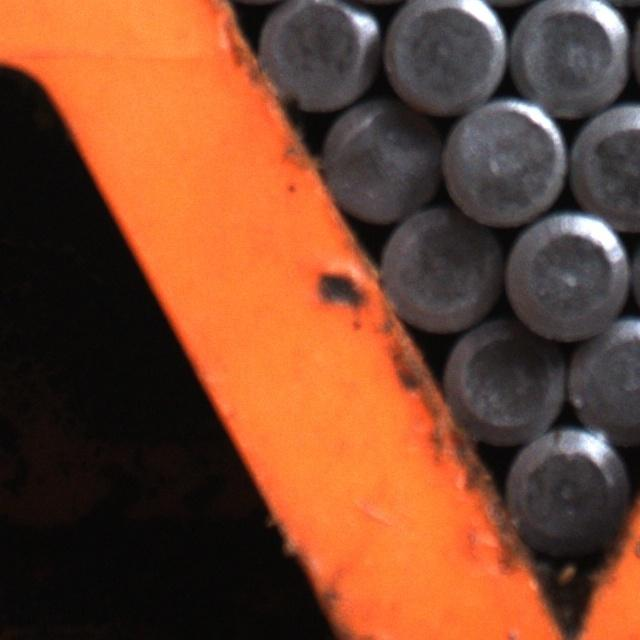tool: (376, 200, 505, 334), (438, 96, 568, 227), (502, 210, 629, 340), (504, 426, 631, 556), (443, 313, 570, 442), (316, 94, 442, 224), (380, 0, 508, 116), (252, 0, 379, 115), (510, 0, 632, 117), (564, 314, 640, 446), (565, 101, 640, 228)
